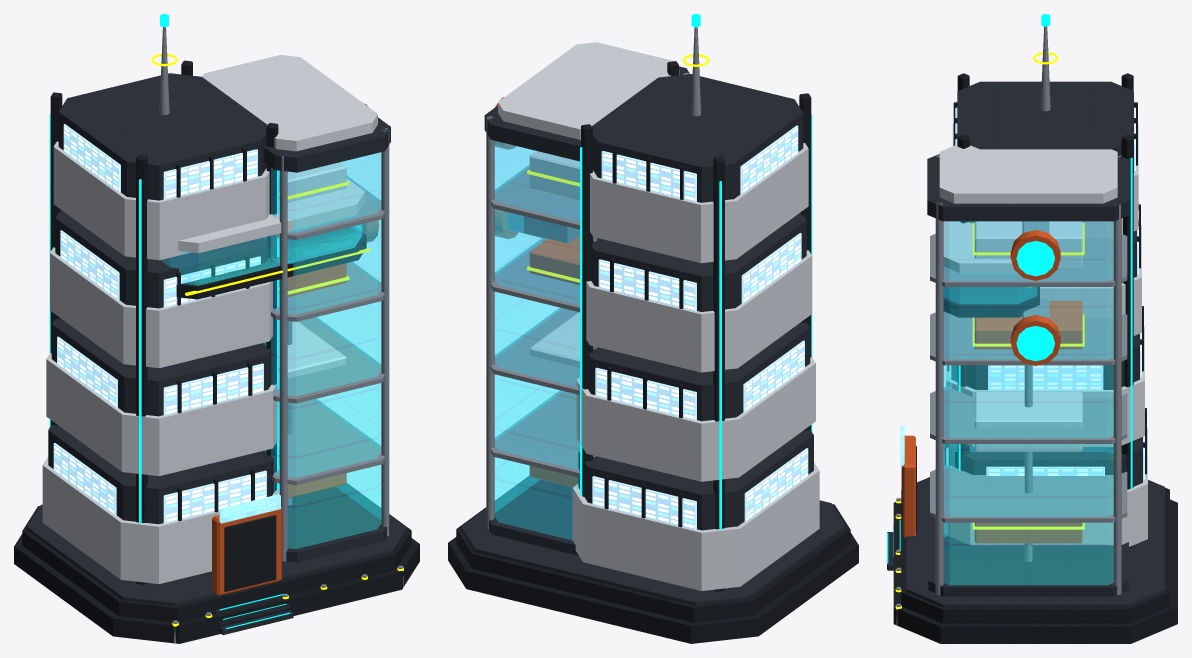
Rendered from bldg_14_r1_05.glb.
The picture shows the model from 3 angles, left to right: view 1: azimuth 30°, elevation 25°; view 2: azimuth 150°, elevation 25°; view 3: azimuth 270°, elevation 25°; orthographic projection. The views are drawn at different scales.
Visible parts, largest first — view 1: Bldg14_C05_aero_white, Bldg14_C05_carbon_slate, Bldg14_C05_glass_cyan, Bldg14_C05_gunmetal, Bldg14_C05_steel_machined, Bldg14_C05_window_lit, Bldg14_C05_accent_orange, Bldg14_C05_led_cyan, Bldg14_C05_led_amber, Bldg14_C05_marquee; view 2: Bldg14_C05_aero_white, Bldg14_C05_carbon_slate, Bldg14_C05_glass_cyan, Bldg14_C05_gunmetal, Bldg14_C05_steel_machined, Bldg14_C05_window_lit, Bldg14_C05_accent_orange, Bldg14_C05_led_cyan, Bldg14_C05_led_amber; view 3: Bldg14_C05_glass_cyan, Bldg14_C05_carbon_slate, Bldg14_C05_steel_machined, Bldg14_C05_aero_white, Bldg14_C05_gunmetal, Bldg14_C05_accent_orange, Bldg14_C05_window_lit, Bldg14_C05_led_cyan, Bldg14_C05_led_amber.
Boxes of the visible parts, left/top/right/bottom form: Bldg14_C05_aero_white: left=42, top=55, right=377, bottom=583; Bldg14_C05_carbon_slate: left=27, top=73, right=406, bottom=634; Bldg14_C05_glass_cyan: left=161, top=152, right=381, bottom=548; Bldg14_C05_gunmetal: left=14, top=60, right=419, bottom=643; Bldg14_C05_steel_machined: left=159, top=27, right=403, bottom=643; Bldg14_C05_window_lit: left=53, top=124, right=266, bottom=523; Bldg14_C05_accent_orange: left=212, top=103, right=378, bottom=595; Bldg14_C05_led_cyan: left=49, top=14, right=290, bottom=628; Bldg14_C05_led_amber: left=151, top=54, right=403, bottom=626; Bldg14_C05_marquee: left=219, top=494, right=280, bottom=523; Bldg14_C05_aero_white: left=498, top=42, right=819, bottom=590; Bldg14_C05_carbon_slate: left=461, top=66, right=845, bottom=605; Bldg14_C05_glass_cyan: left=494, top=141, right=579, bottom=540; Bldg14_C05_gunmetal: left=448, top=61, right=858, bottom=643; Bldg14_C05_steel_machined: left=486, top=27, right=701, bottom=529; Bldg14_C05_window_lit: left=592, top=125, right=808, bottom=529; Bldg14_C05_accent_orange: left=495, top=97, right=579, bottom=486; Bldg14_C05_led_cyan: left=580, top=14, right=812, bottom=529; Bldg14_C05_led_amber: left=527, top=54, right=709, bottom=282; Bldg14_C05_glass_cyan: left=943, top=221, right=1113, bottom=584; Bldg14_C05_carbon_slate: left=887, top=81, right=1164, bottom=607; Bldg14_C05_steel_machined: left=896, top=26, right=1127, bottom=625; Bldg14_C05_aero_white: left=939, top=124, right=1147, bottom=546; Bldg14_C05_gunmetal: left=893, top=73, right=1177, bottom=643; Bldg14_C05_accent_orange: left=902, top=230, right=1082, bottom=543; Bldg14_C05_window_lit: left=946, top=101, right=1144, bottom=480; Bldg14_C05_led_cyan: left=887, top=14, right=1132, bottom=563; Bldg14_C05_led_amber: left=895, top=52, right=1084, bottom=609.
Bounding box in the file's own units: 12 × 20.72 × 10.23.
Materials: 10 (10 with a texture image).
